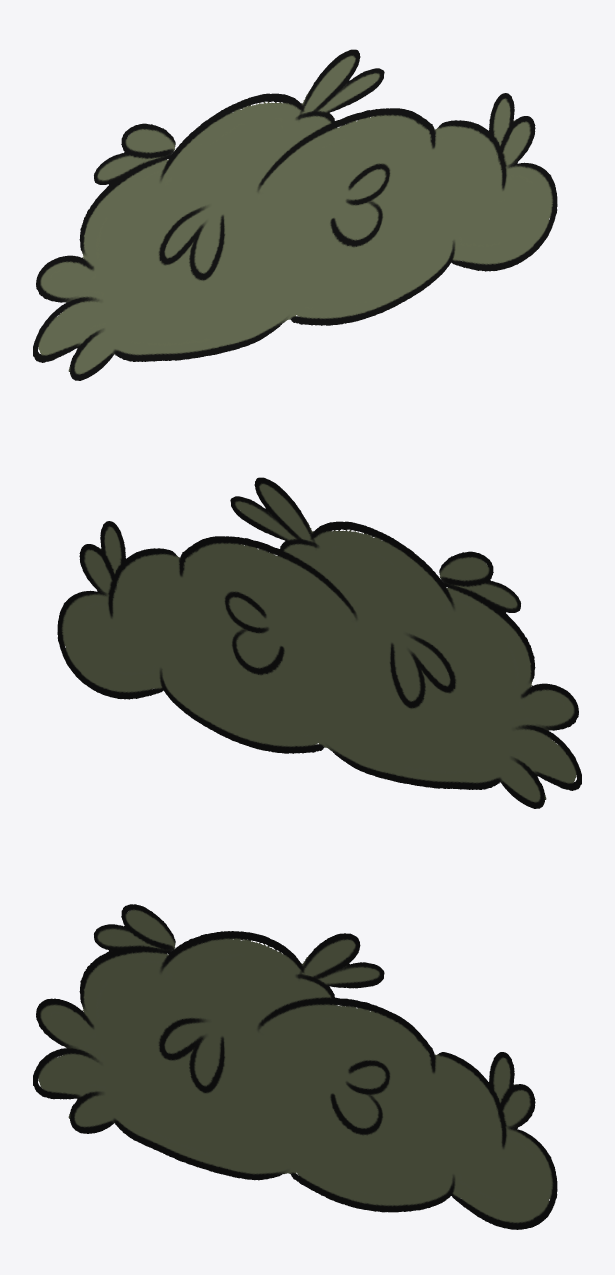
Rendered from bush1Card.fbx.
3 views of the same model, one above another, from view 1: azimuth 30°, elevation 25°; view 2: azimuth 150°, elevation 25°; view 3: azimuth 330°, elevation 25° (orthographic).
Visible parts, largest first — view 1: polySurface28; view 2: polySurface28; view 3: polySurface28.
Part boxes in pixels (x1,y1,x2,y2): polySurface28: [33, 49, 557, 380]; polySurface28: [57, 477, 581, 808]; polySurface28: [33, 904, 557, 1229].
Size of the model in its own units: 42.39 by 20.63 by 0.
Materials: 1 (1 with a texture image).
